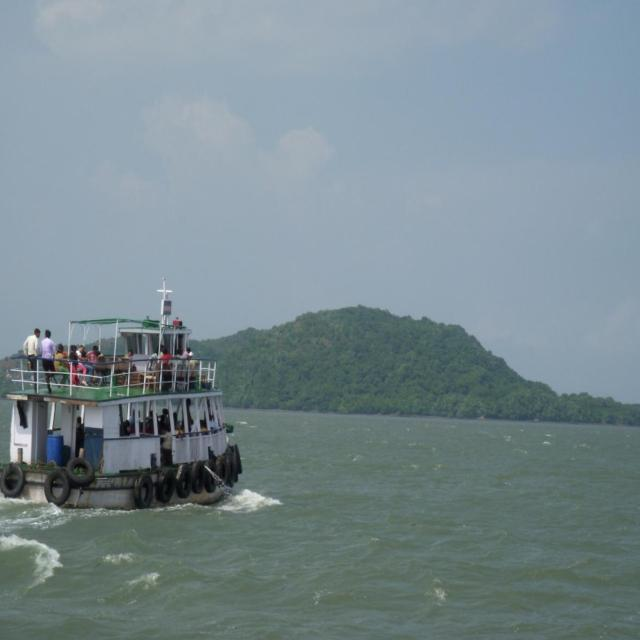passenger ship: (6, 294, 245, 508)
